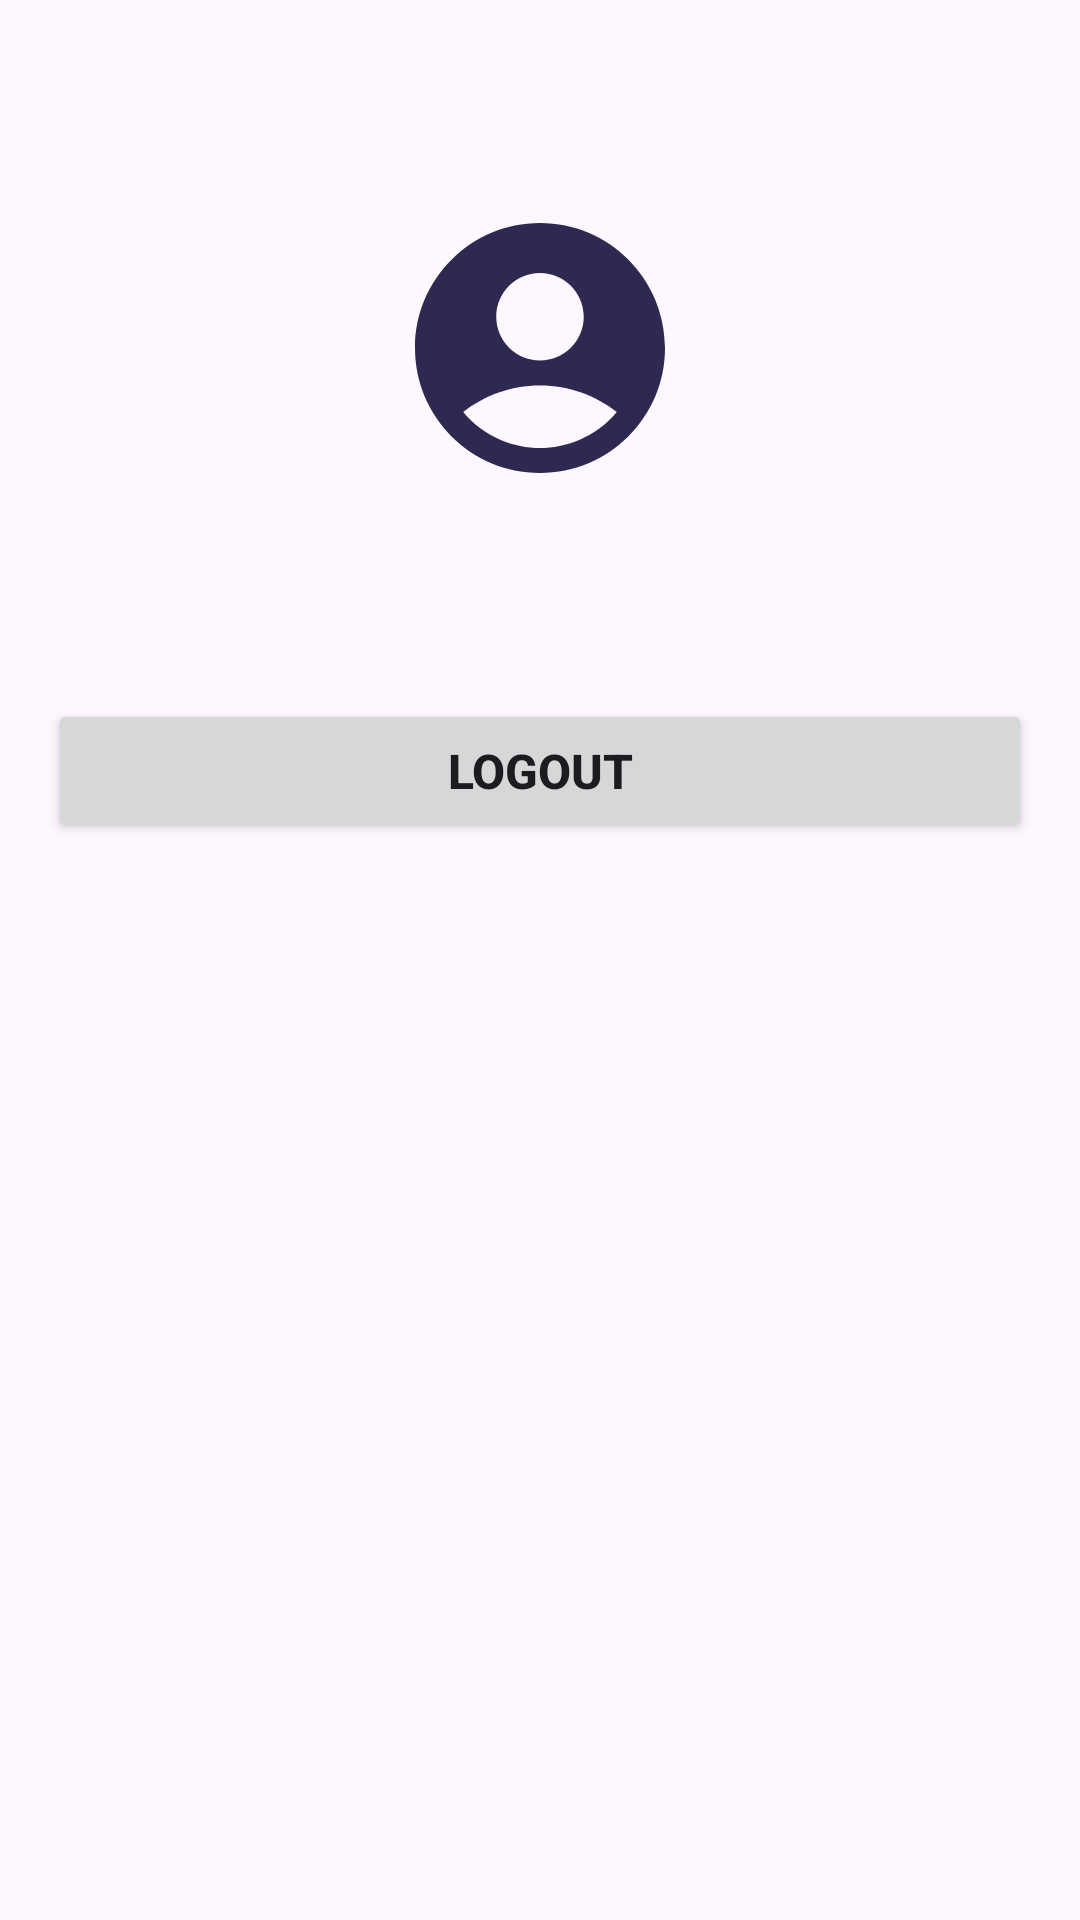

Locate icon controls on the screen. Image size 1080×1920, boxes as (x1, y1, x2, y2).
Profile Picture: (415, 223, 665, 473)
